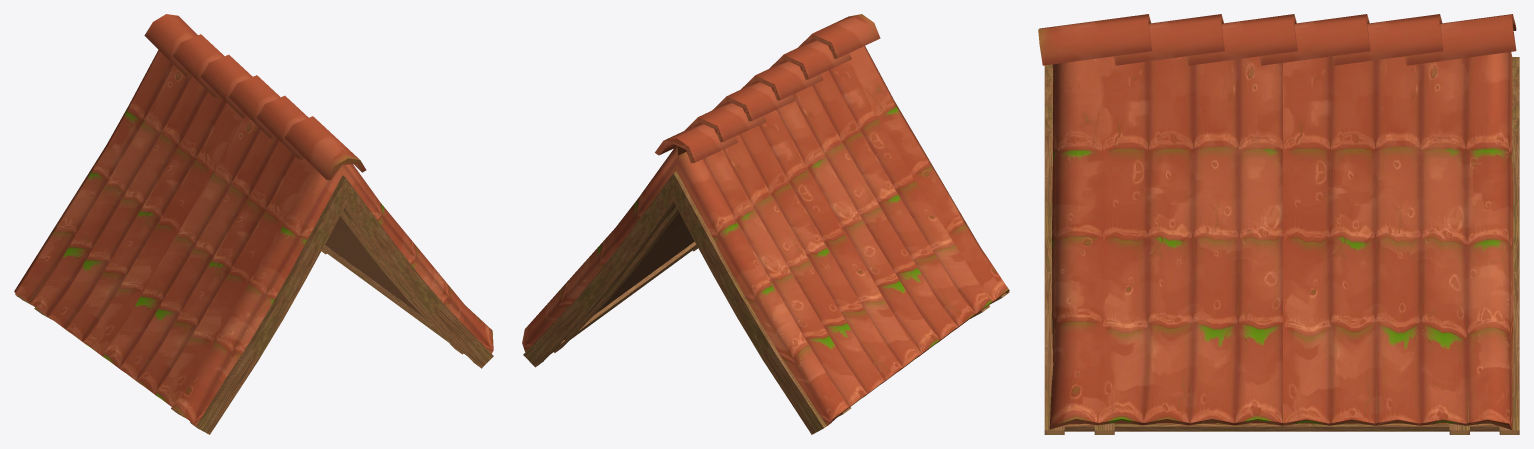
File: house_roof.glb
The picture shows the model from 3 angles, left to right: view 1: azimuth 30°, elevation 25°; view 2: azimuth 150°, elevation 25°; view 3: azimuth 270°, elevation 25°; orthographic projection. The views are drawn at different scales.
Parts seen in each view (by area): view 1: Roof_RoundTiles_4x4; view 2: Roof_RoundTiles_4x4; view 3: Roof_RoundTiles_4x4.
Part boxes in pixels (x1,y1,x2,y2): Roof_RoundTiles_4x4: (14, 14, 493, 434); Roof_RoundTiles_4x4: (522, 14, 1009, 434); Roof_RoundTiles_4x4: (1038, 14, 1519, 434).
Size of the model in its own units: 5.51 by 4.25 by 5.56.
Materials: 2 (2 with a texture image).
